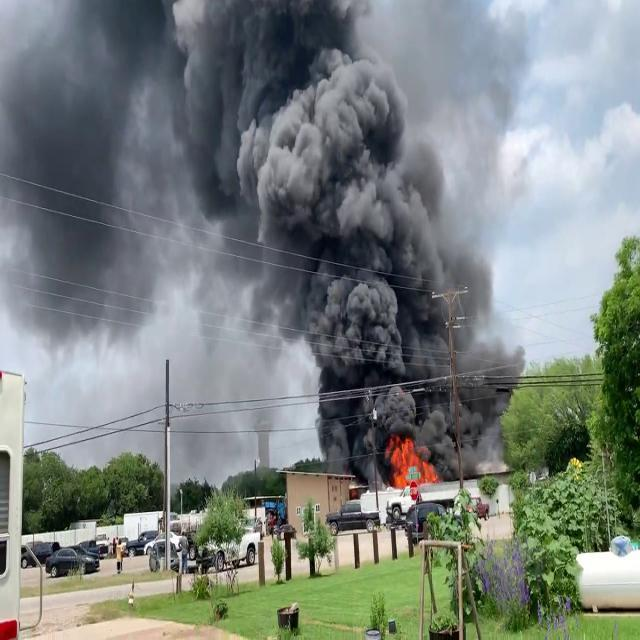Fire: (387, 433, 432, 487)
Smoke: (180, 0, 514, 470), (0, 0, 229, 377)
